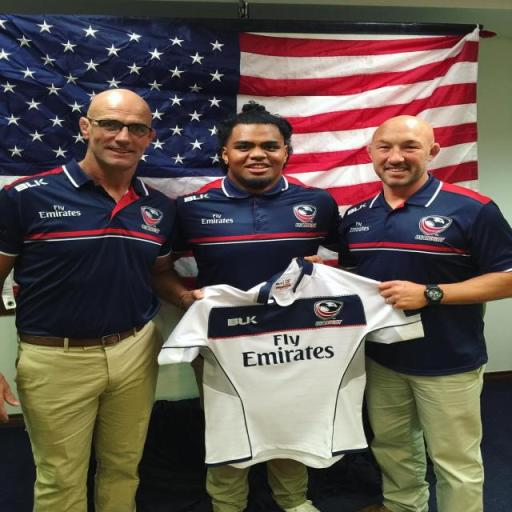Emirates: (238, 330, 338, 370), (38, 202, 84, 220), (200, 213, 234, 226), (348, 222, 372, 234)
